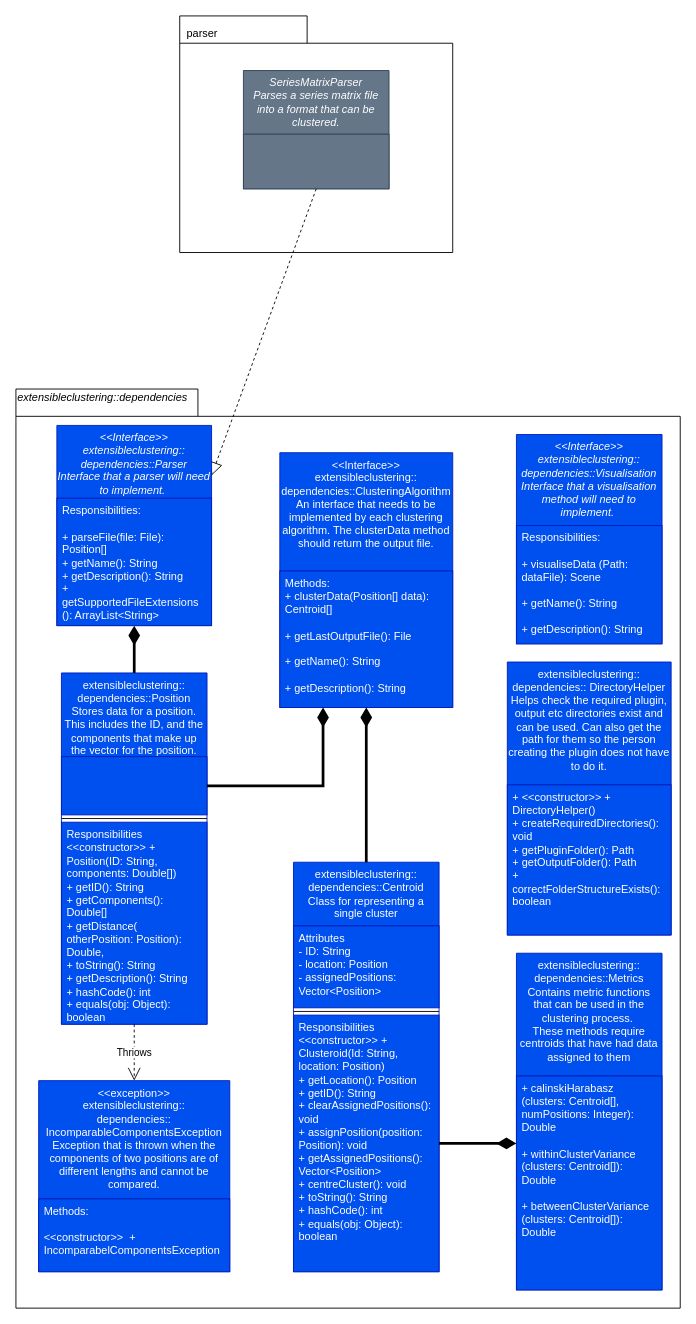
This 696x1324 diagram has some shape labels left out. Each missing label, with the centre of its shape:
"+ parseFile(file: File): Position[]" goes at [316,161].
"Attributes - ID: String - Components: Double[]" goes at [134,785].
